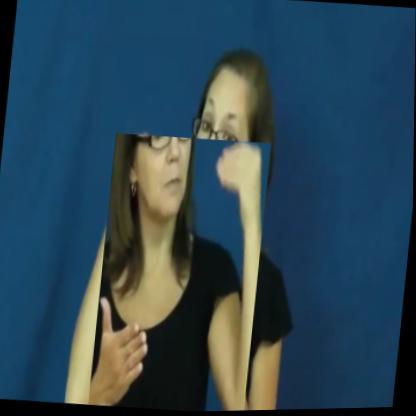Expensive: (89, 131, 271, 414)
